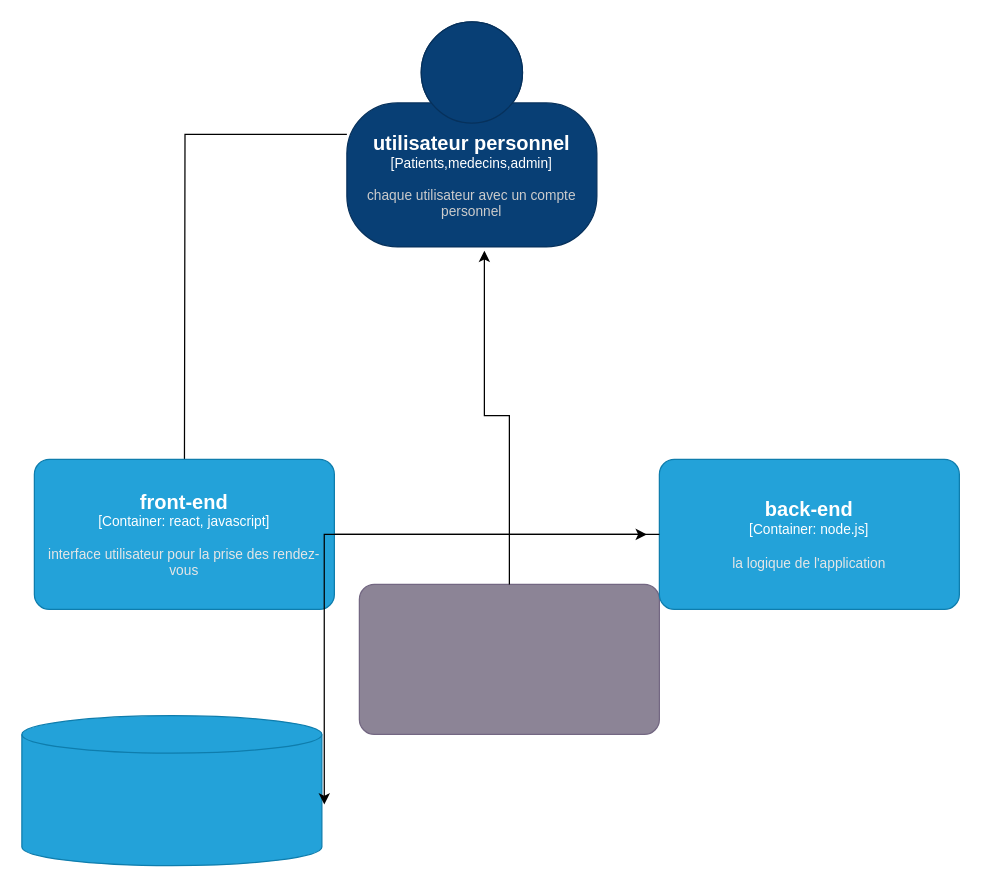
Image size: 981x888. Some labels were removed from this diagram. Each missing label, with the centre of its shape:
DATA BASE [Container name: postgresql] stockage des données de l'application: (x=171, y=790)
systeme de messagerie [systeme logiciel] systeme de messagerie interne: (x=508, y=658)
